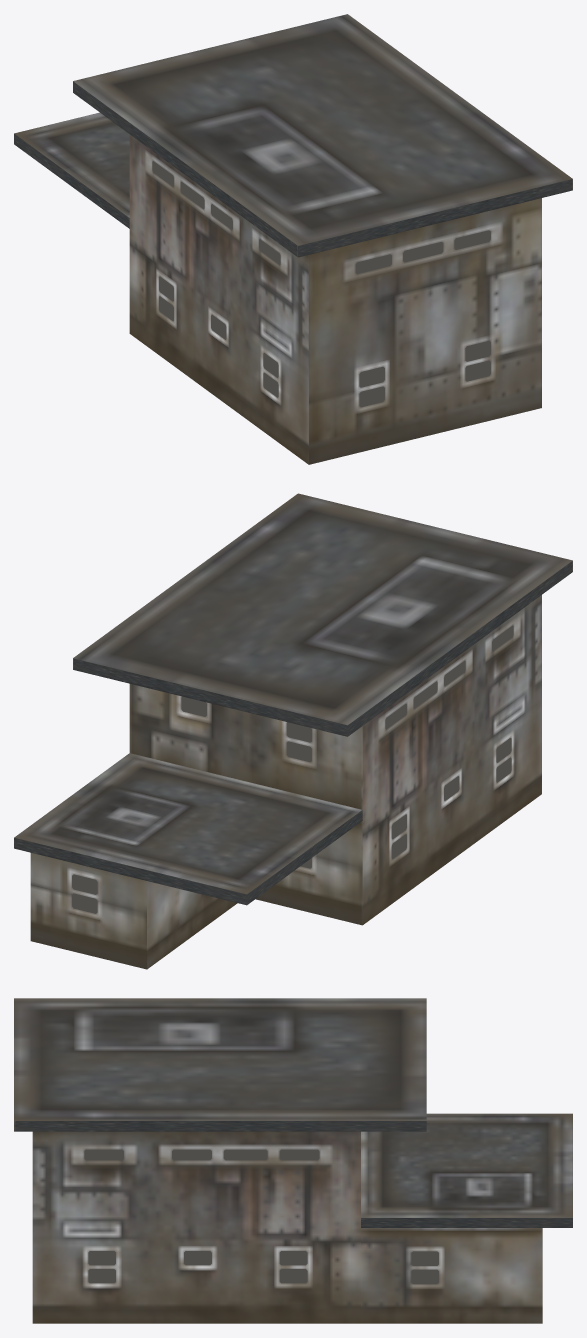
Rendered from 2storycivliving.glb.
3 views of the same model, one above another, from view 1: azimuth 30°, elevation 25°; view 2: azimuth 150°, elevation 25°; view 3: azimuth 270°, elevation 25° (orthographic). The views are drawn at different scales.
Visible parts, largest first — view 1: Box01, LitWinJ_2StoryCivLiving; view 2: Box01, LitWinJ_2StoryCivLiving; view 3: Box01, LitWinJ_2StoryCivLiving.
Boxes of the visible parts, x1=… form: Box01: x1=14, y1=14, x2=572, y2=464; LitWinJ_2StoryCivLiving: x1=152, y1=161, x2=490, y2=407; Box01: x1=14, y1=493, x2=572, y2=969; LitWinJ_2StoryCivLiving: x1=72, y1=625, x2=513, y2=913; Box01: x1=14, y1=998, x2=572, y2=1323; LitWinJ_2StoryCivLiving: x1=84, y1=1149, x2=438, y2=1284.
Size of the model in its own units: 6.9 by 5.55 by 13.26.
1 material, 1 textured.
